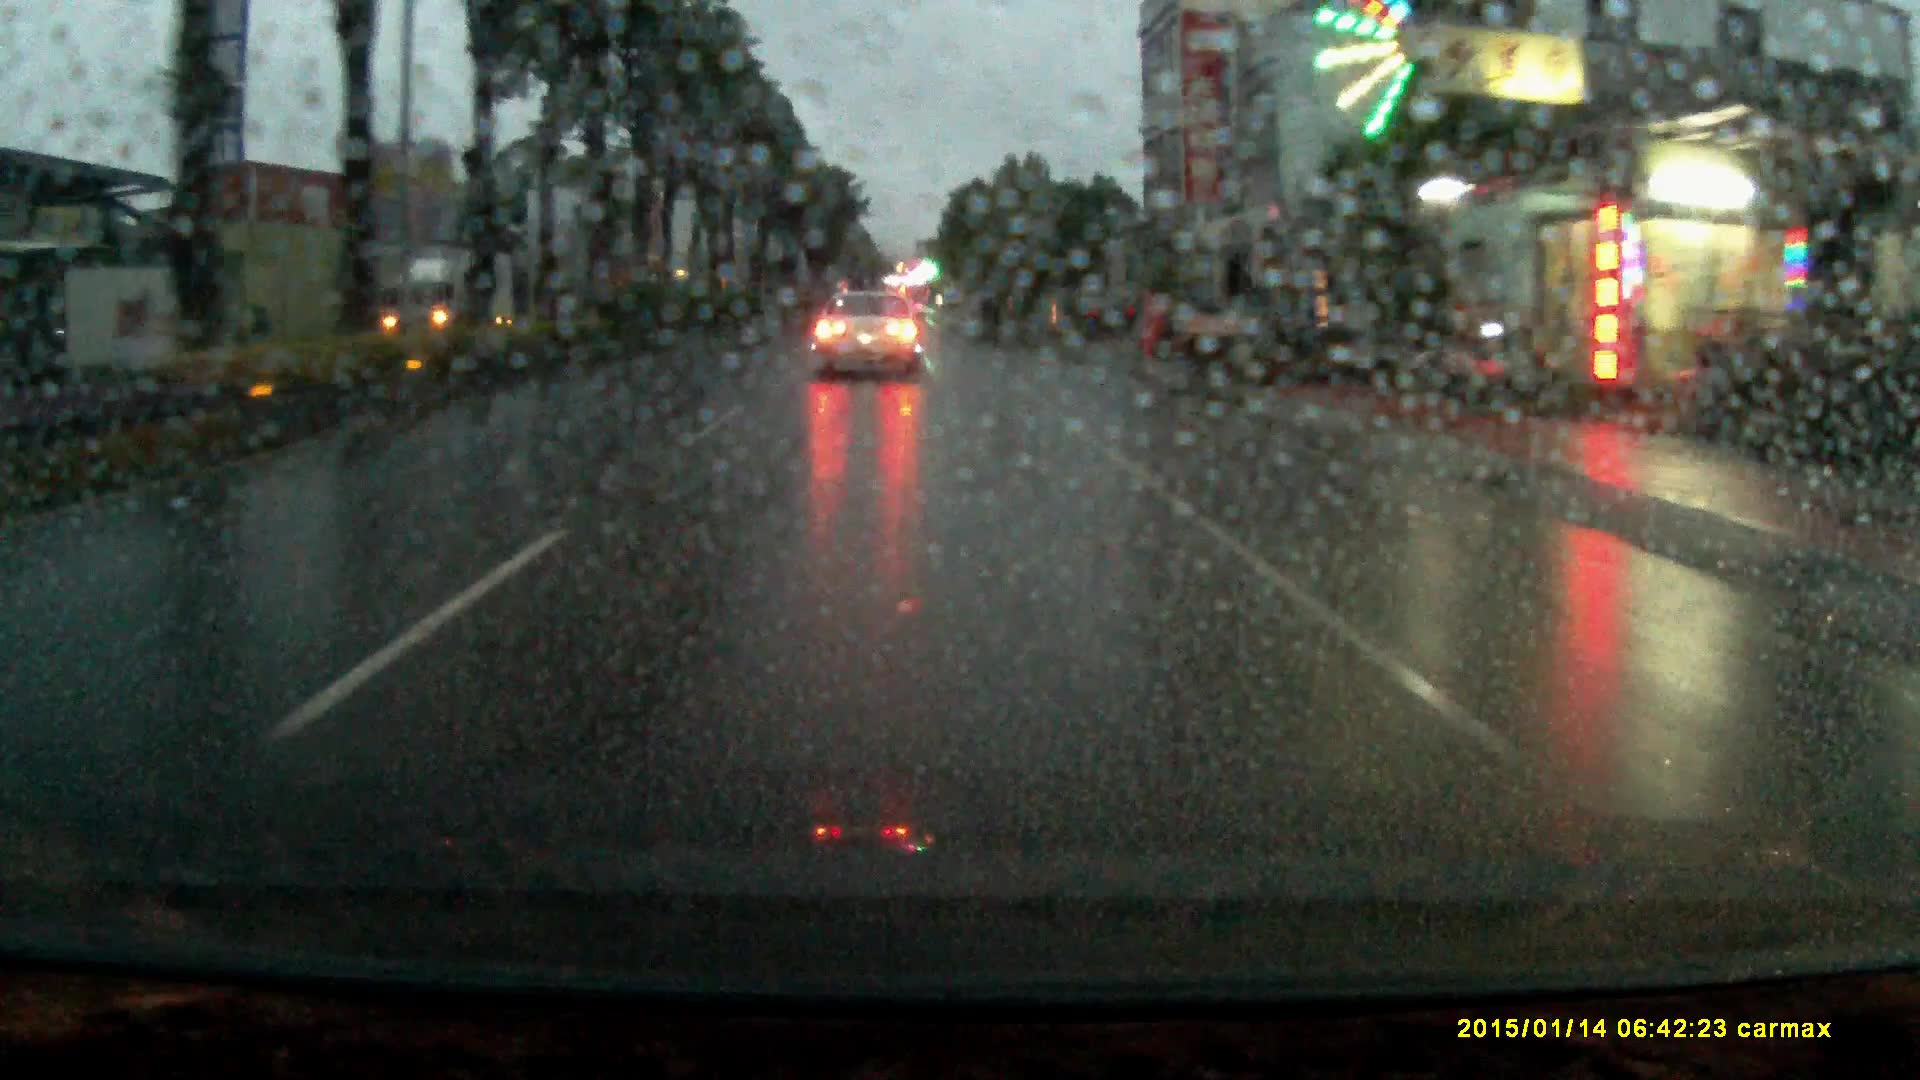vehicle: (814, 291, 919, 388), (396, 251, 514, 330), (1059, 291, 1135, 342)
